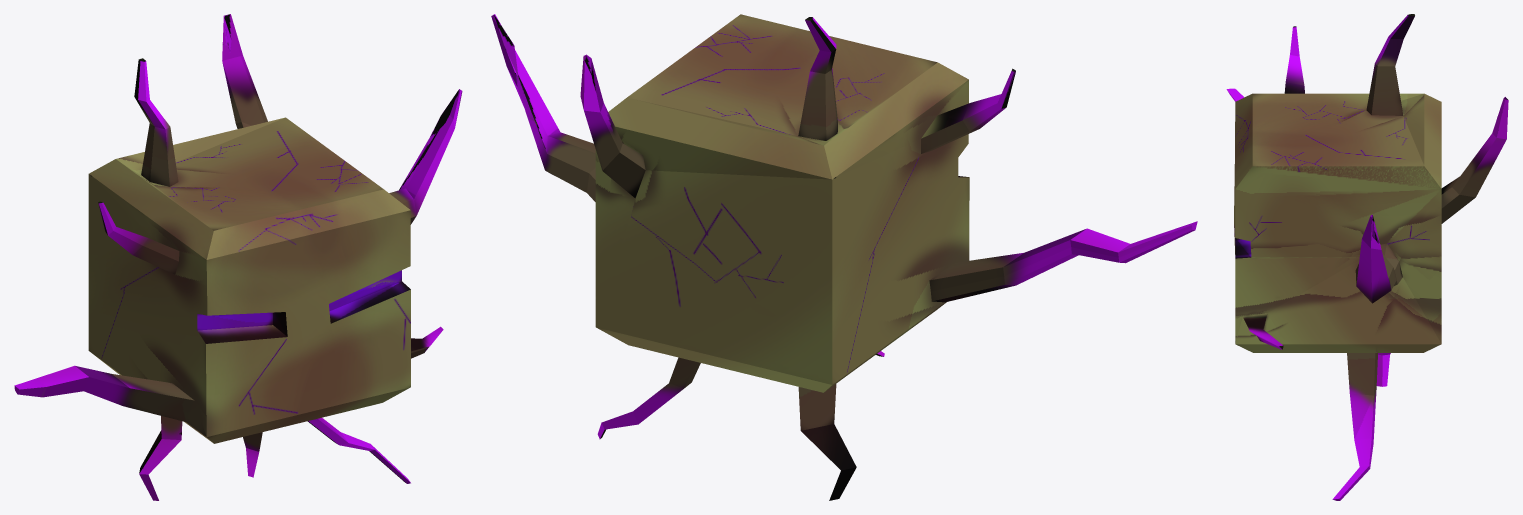
Rendered from monster3.fbx.
3 views of the same model, side by side, from view 1: azimuth 30°, elevation 25°; view 2: azimuth 150°, elevation 25°; view 3: azimuth 270°, elevation 25° (orthographic). The views are drawn at different scales.
Parts seen in each view (by area): view 1: Cube; view 2: Cube; view 3: Cube.
Boxes of the visible parts, bbox=[...] form: Cube: bbox=[14, 14, 462, 500]; Cube: bbox=[491, 14, 1197, 500]; Cube: bbox=[1226, 14, 1508, 500].
Size of the model in its own units: 515 by 418 by 273.
